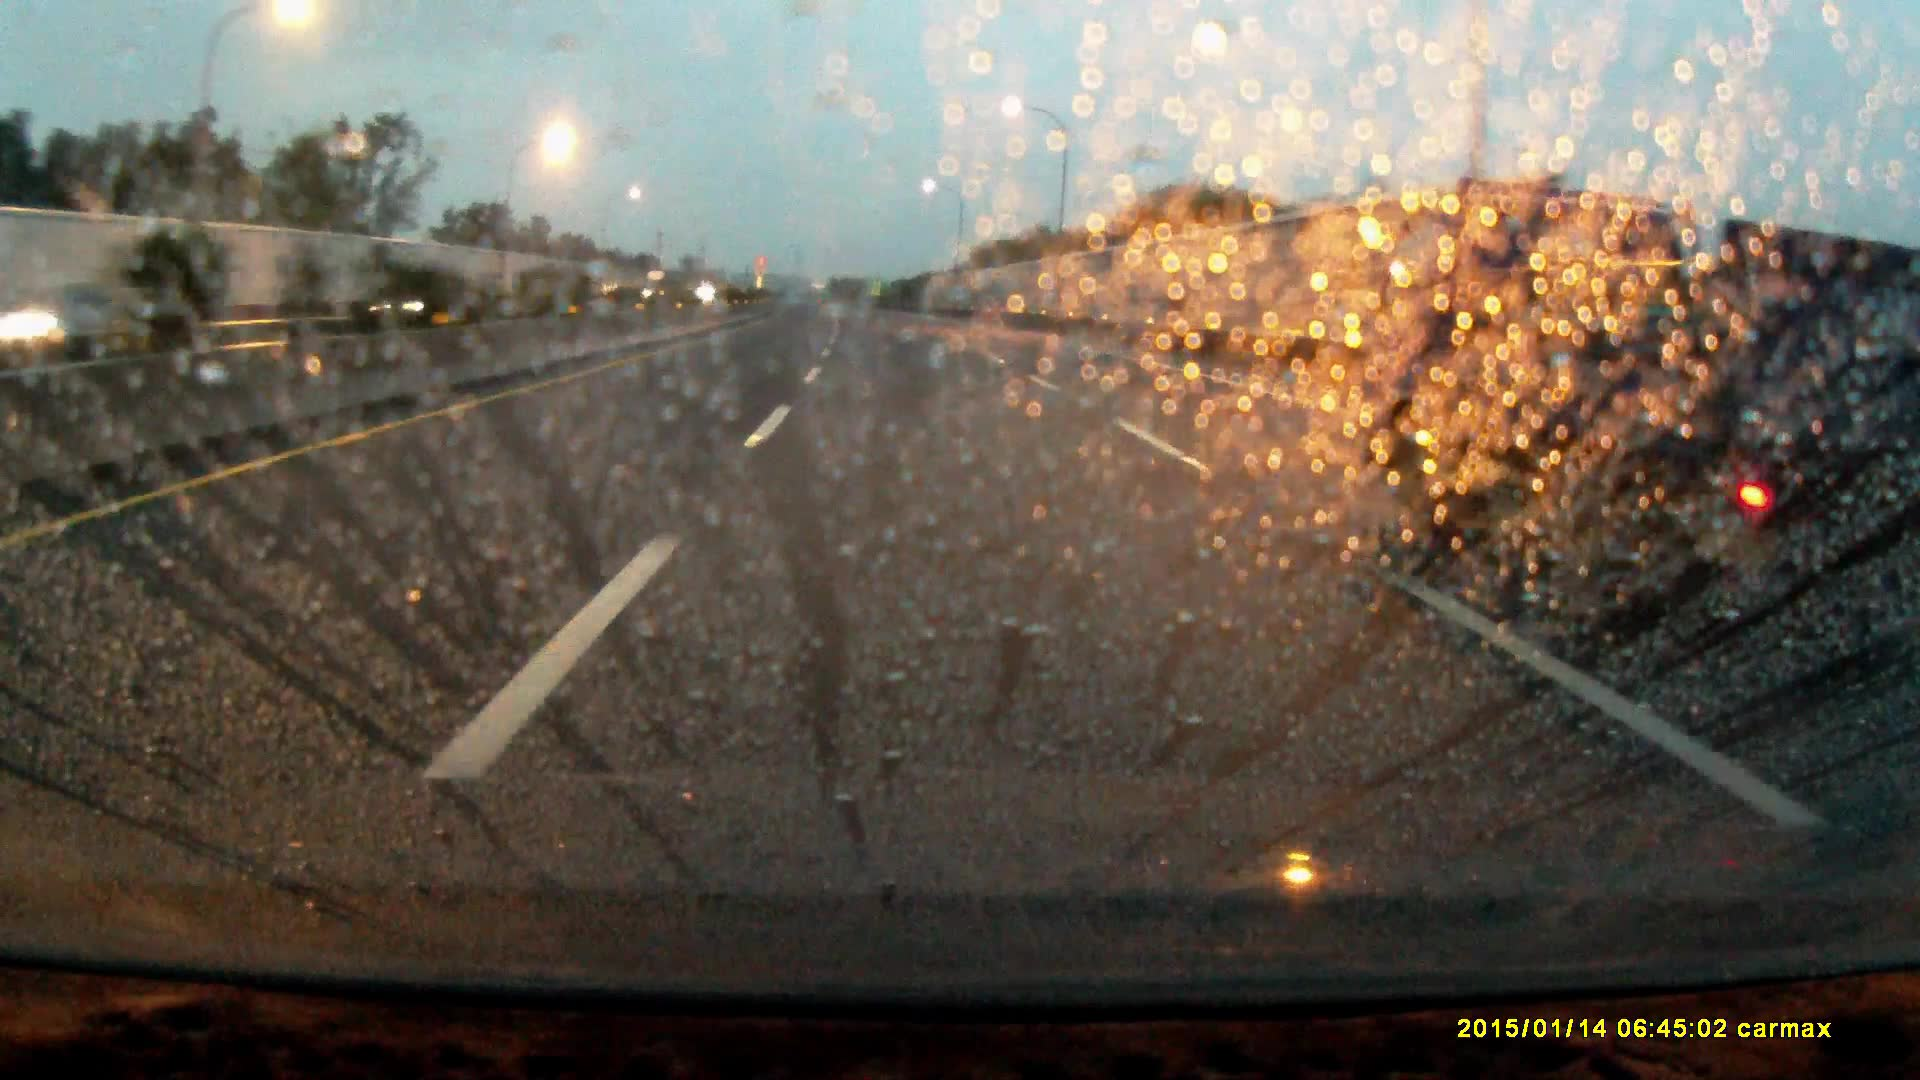vehicle: (1340, 183, 1920, 622), (385, 265, 476, 324), (647, 270, 673, 301)
